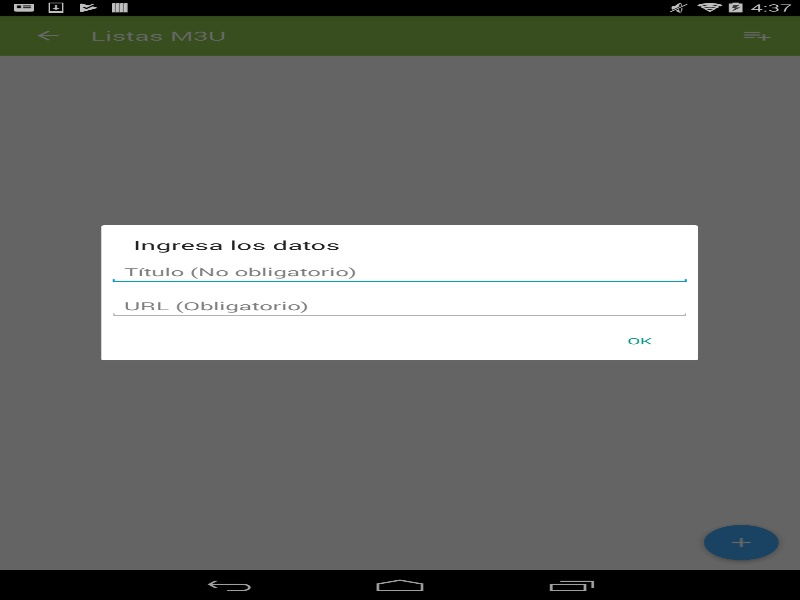Button: (596, 324, 682, 357)
Input: (108, 259, 691, 284), (108, 293, 691, 318)
